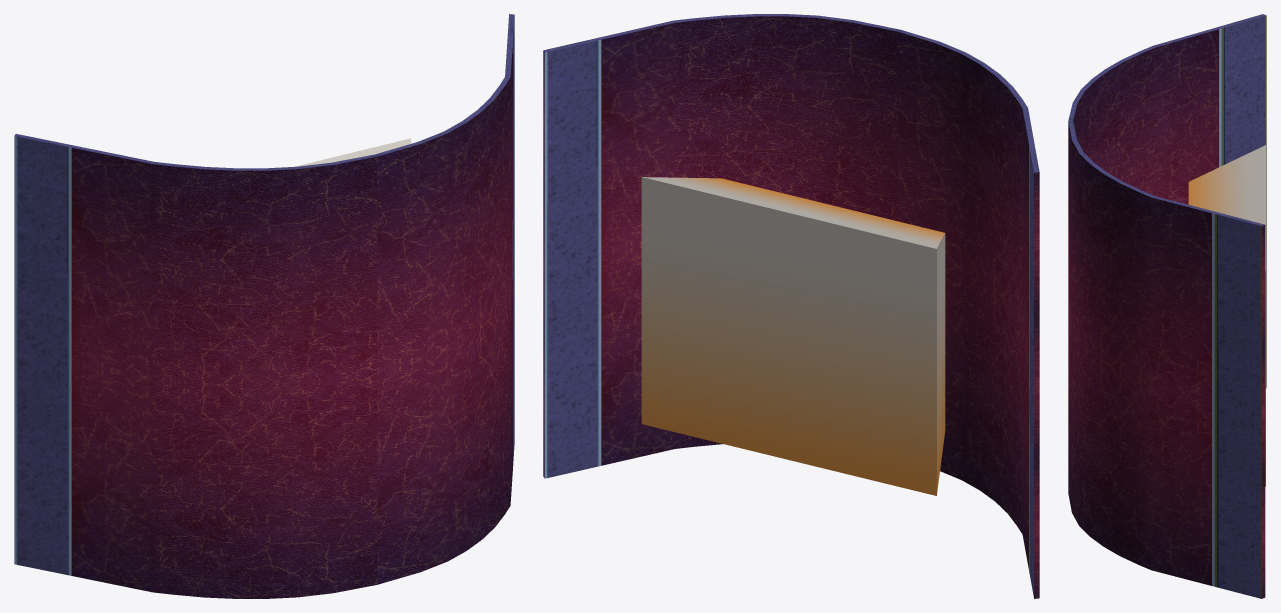
File: Lamp_L.FBX
3 renders of one model, left to right at view 1: azimuth 30°, elevation 25°; view 2: azimuth 150°, elevation 25°; view 3: azimuth 270°, elevation 25°, orthographic. The views are drawn at different scales.
Visible parts, largest first — view 1: Lamp_L; view 2: Lamp_L; view 3: Lamp_L.
Part boxes in pixels (x1=…): Lamp_L: x1=14, y1=14, x2=514, y2=598; Lamp_L: x1=543, y1=14, x2=1039, y2=598; Lamp_L: x1=1068, y1=14, x2=1266, y2=598.
Bounding box in the file's own units: 22.8 × 18.68 × 9.
